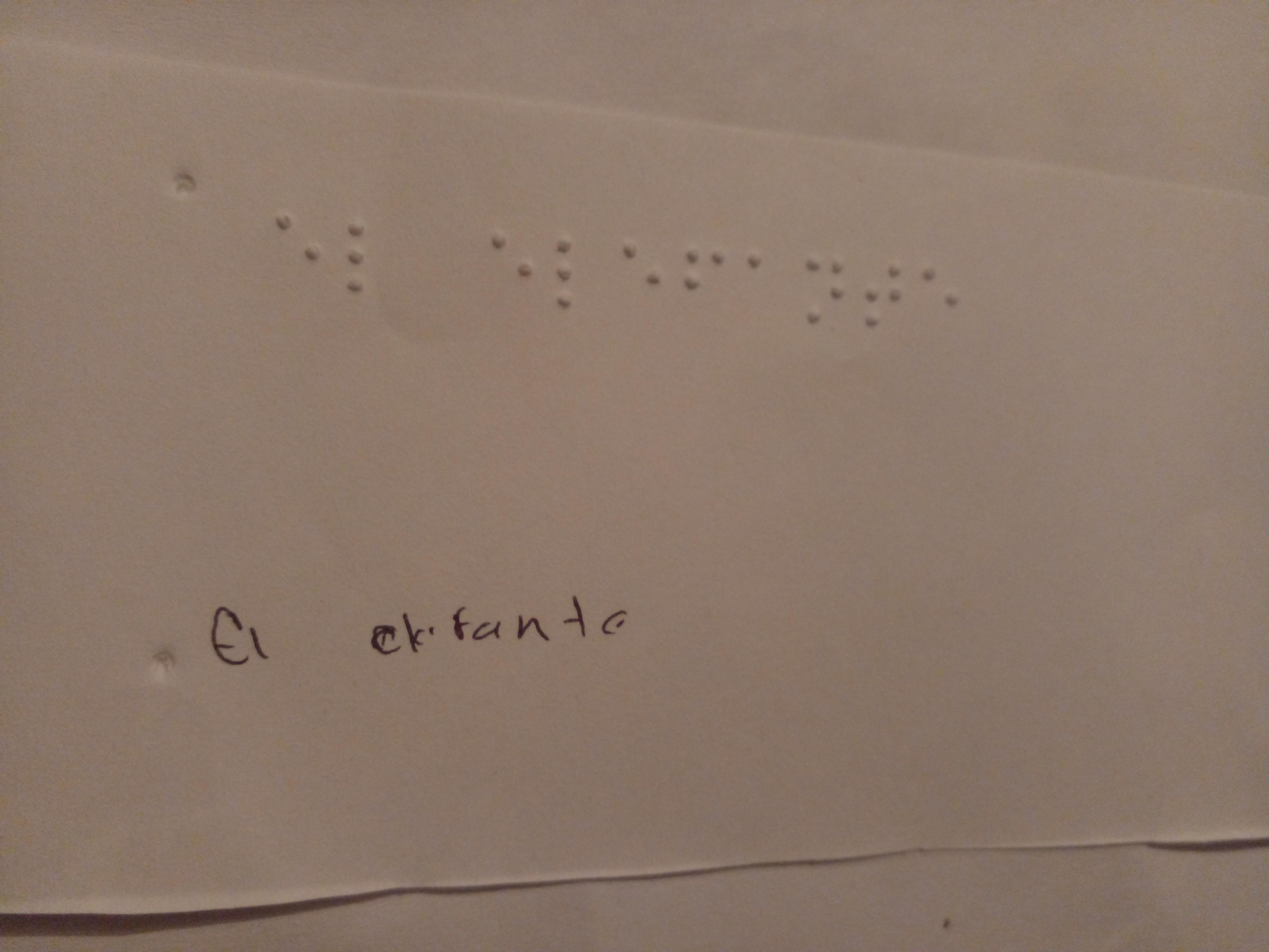a: (733, 240, 782, 301)
e: (466, 201, 541, 308), (259, 192, 332, 288), (603, 234, 665, 311), (919, 243, 960, 335)
f: (678, 242, 727, 304)
l: (335, 217, 378, 325), (548, 229, 589, 327)
n: (796, 246, 850, 328)
t: (864, 245, 908, 335)
